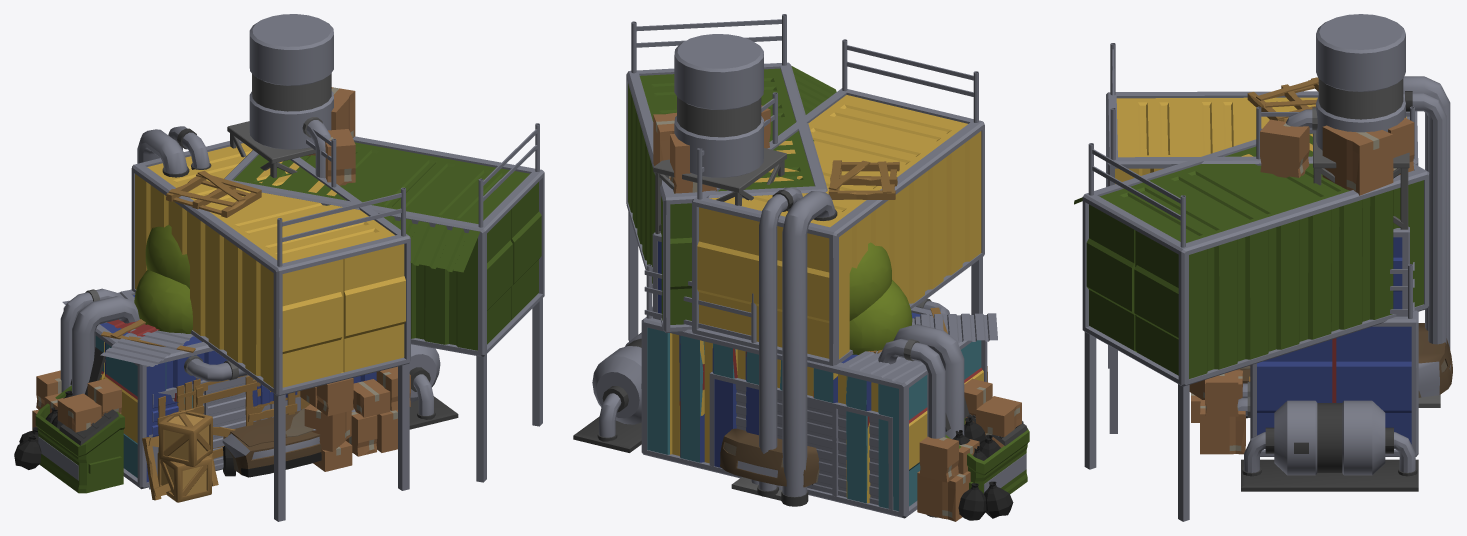
Rendered from props.glb.
3 renders of one model, left to right at view 1: azimuth 30°, elevation 25°; view 2: azimuth 150°, elevation 25°; view 3: azimuth 270°, elevation 25°, orthographic. The views are drawn at different scales.
Visible parts, largest first — view 1: Structure_4, Structure_2, Structure_3, Structure_1, Debris_BrokenCar, Tree_3, Tree_1; view 2: Structure_4, Structure_2, Structure_3, Structure_1, Debris_BrokenCar, Tree_3, Tree_1; view 3: Structure_2, Structure_4, Structure_3, Debris_BrokenCar, Structure_1.
Part boxes in pixels (x1,y1,x2,y2): Structure_4: [14, 126, 458, 521]; Structure_2: [60, 87, 544, 502]; Structure_3: [32, 14, 376, 489]; Structure_1: [36, 289, 355, 496]; Debris_BrokenCar: [222, 408, 321, 477]; Tree_3: [134, 270, 192, 333]; Tree_1: [145, 225, 189, 288]; Structure_4: [573, 39, 1029, 520]; Structure_2: [626, 14, 997, 517]; Structure_3: [641, 34, 1004, 521]; Structure_1: [642, 264, 1021, 521]; Debris_BrokenCar: [720, 428, 819, 487]; Tree_3: [849, 280, 912, 354]; Tree_1: [849, 242, 891, 320]; Structure_2: [1074, 118, 1429, 521]; Structure_4: [1106, 43, 1450, 491]; Structure_3: [1237, 14, 1418, 456]; Debris_BrokenCar: [1240, 323, 1452, 418]; Structure_1: [1238, 262, 1418, 456].
Size of the model in its own units: 11.86 by 9.65 by 8.48.
